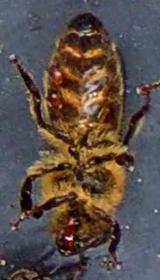varroa_mite: (38, 76, 72, 117)
